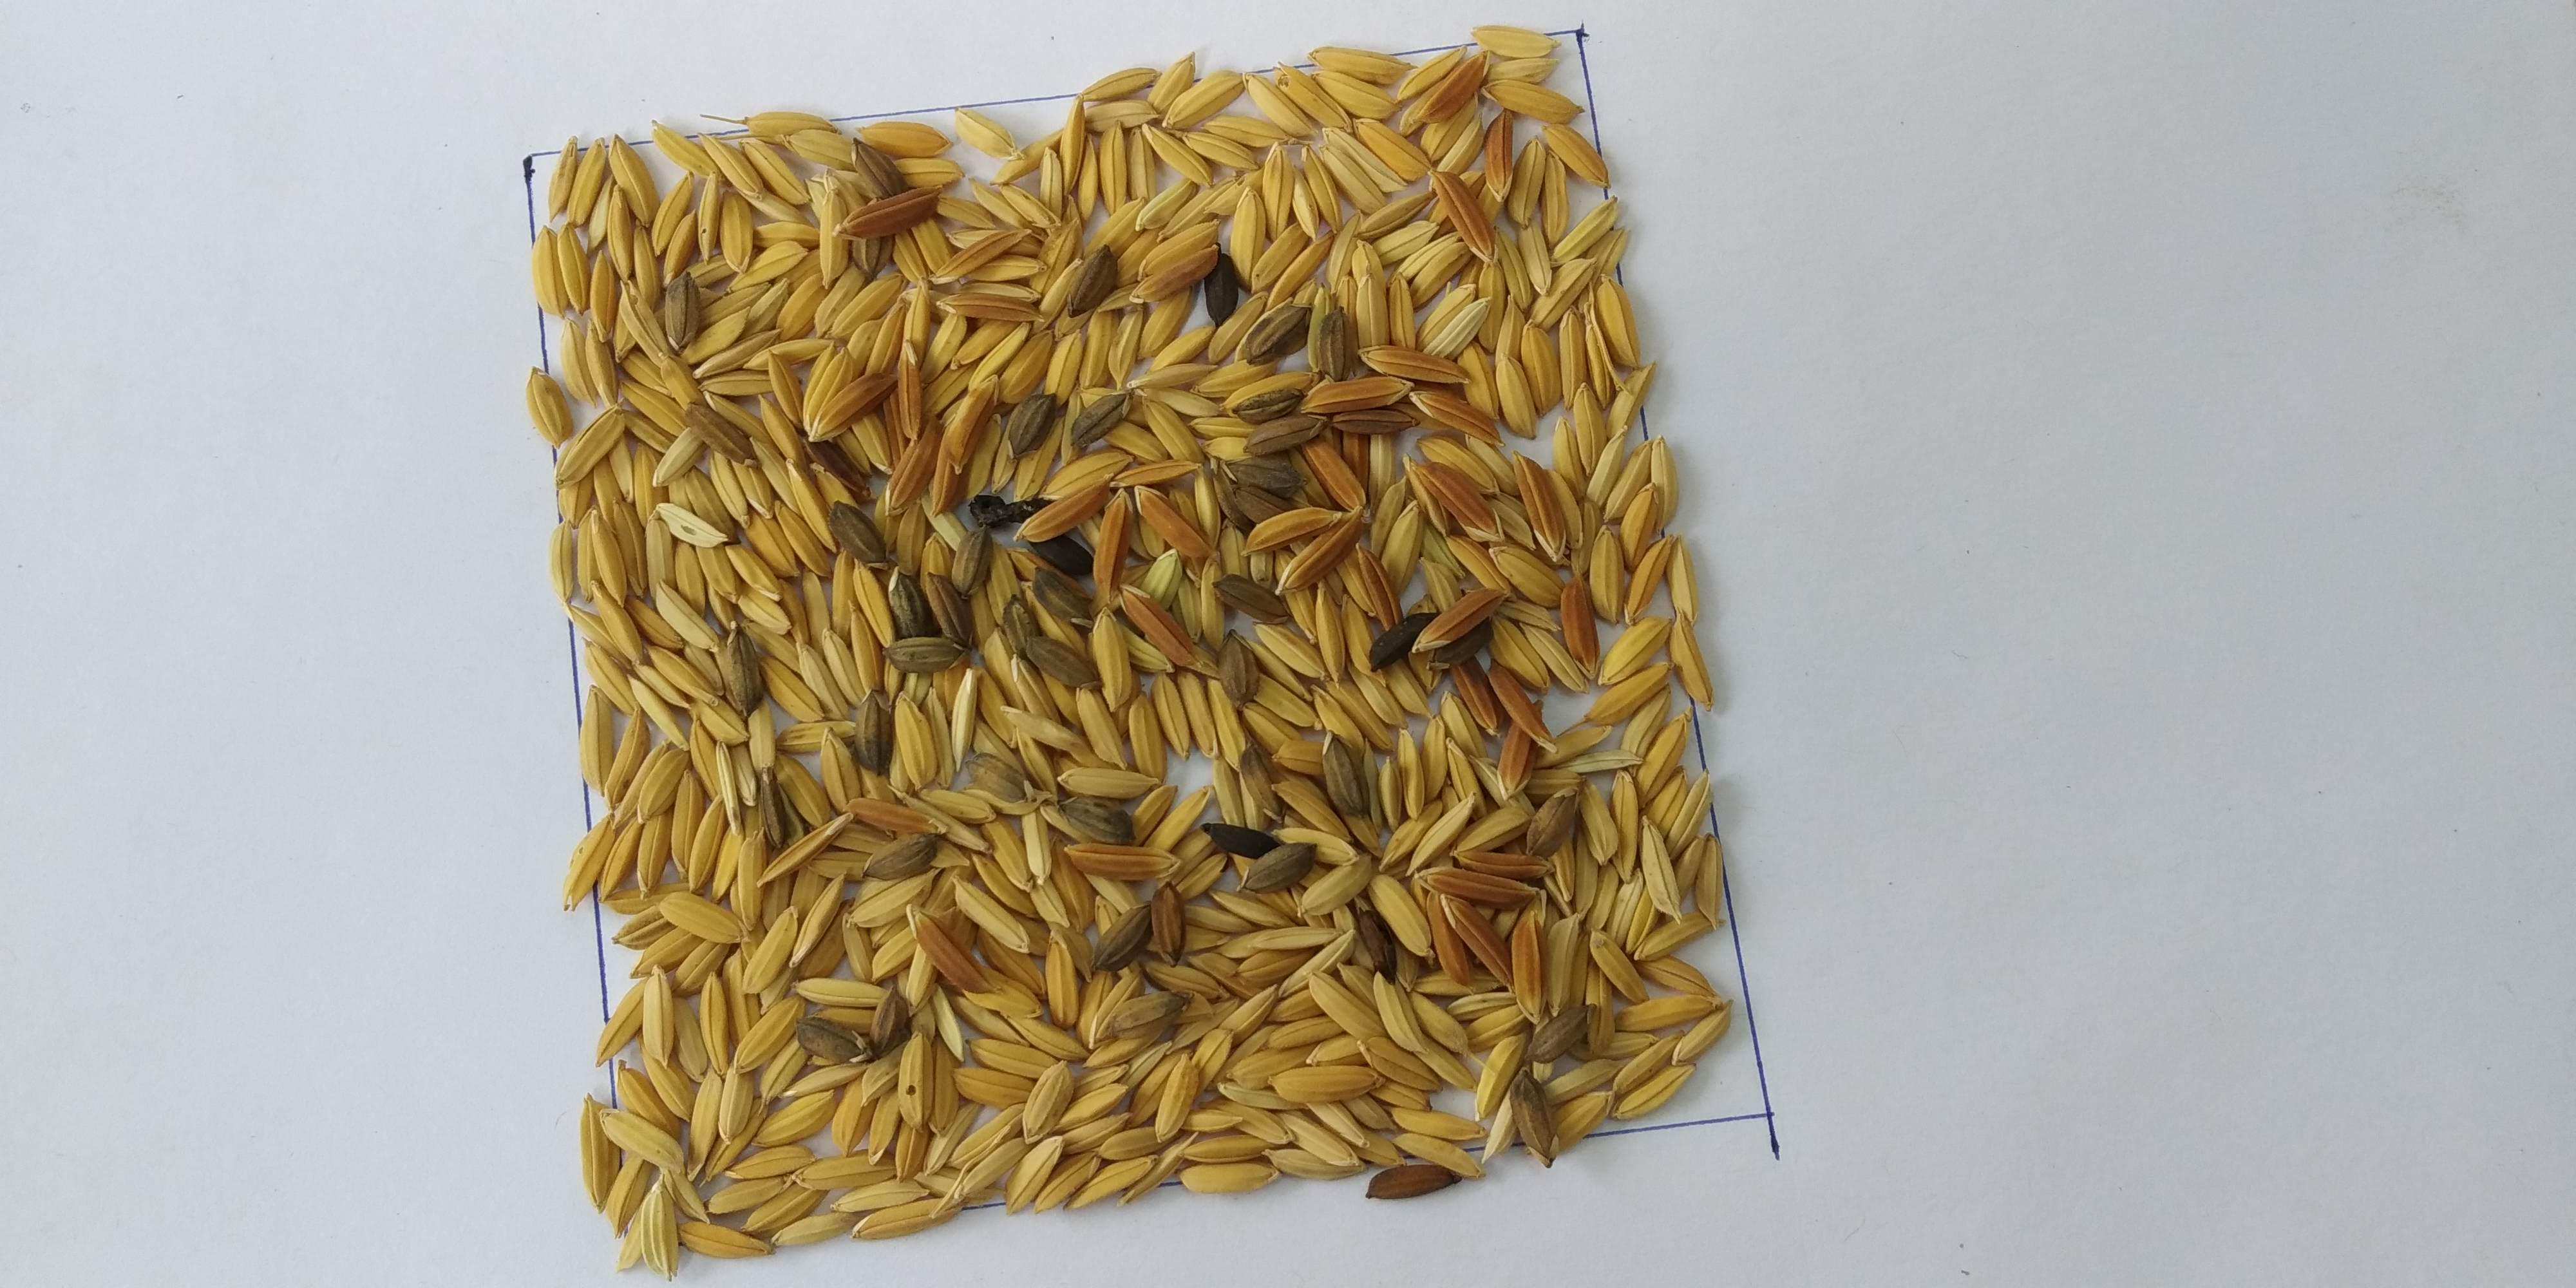impure: (632, 149, 1597, 1129)
